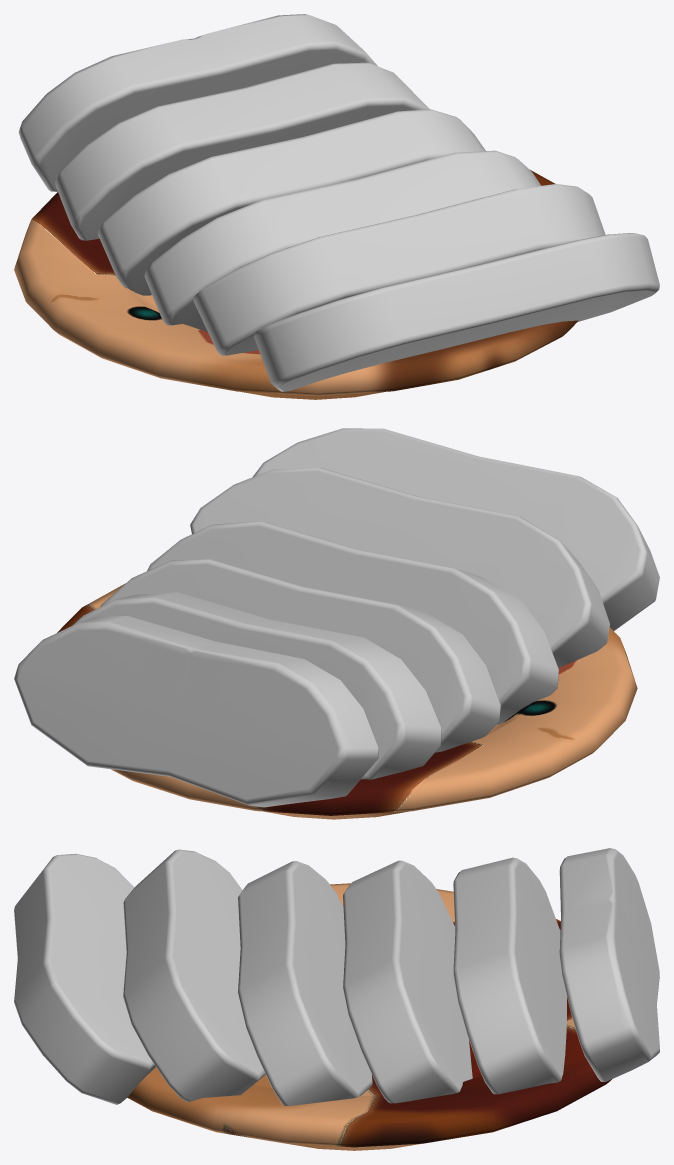
The model's file is PlateSushi(Ori).obj.
3 renders of one model, top to bottom at view 1: azimuth 30°, elevation 25°; view 2: azimuth 150°, elevation 25°; view 3: azimuth 270°, elevation 25°, orthographic. The views are drawn at different scales.
Parts seen in each view (by area): view 1: m_recipe_sushi_02_0, Plate_Mesh_0; view 2: m_recipe_sushi_02_0, Plate_Mesh_0; view 3: m_recipe_sushi_02_0, Plate_Mesh_0.
Part boxes in pixels (<box>): m_recipe_sushi_02_0: <box>18,14,659,391</box>; Plate_Mesh_0: <box>14,170,578,399</box>; m_recipe_sushi_02_0: <box>14,428,659,807</box>; Plate_Mesh_0: <box>57,583,637,819</box>; m_recipe_sushi_02_0: <box>14,848,659,1105</box>; Plate_Mesh_0: <box>127,883,611,1150</box>.
Size of the model in its own units: 0.7905 by 0.2974 by 0.8695.
